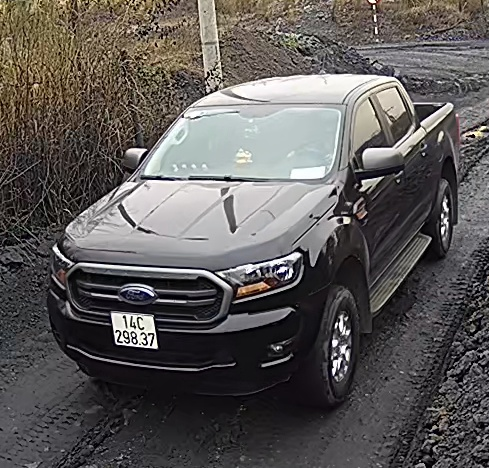vehicle plate: (109, 308, 157, 351)
